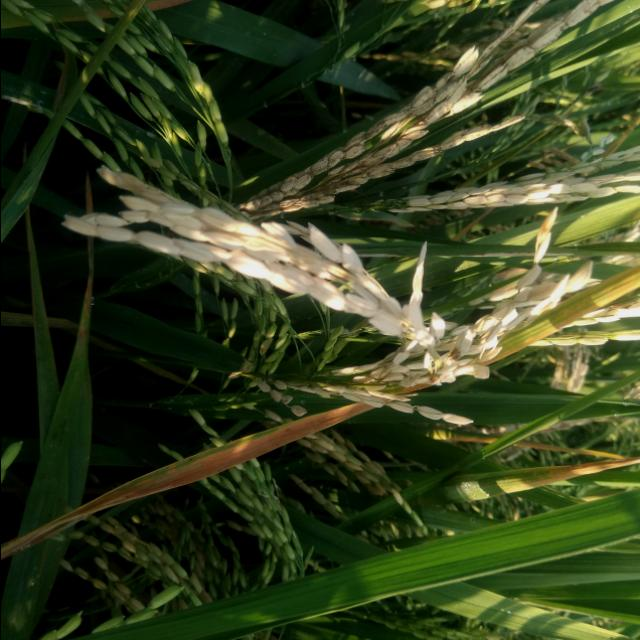Brown spot: (63, 400, 374, 521), (528, 450, 640, 488)
